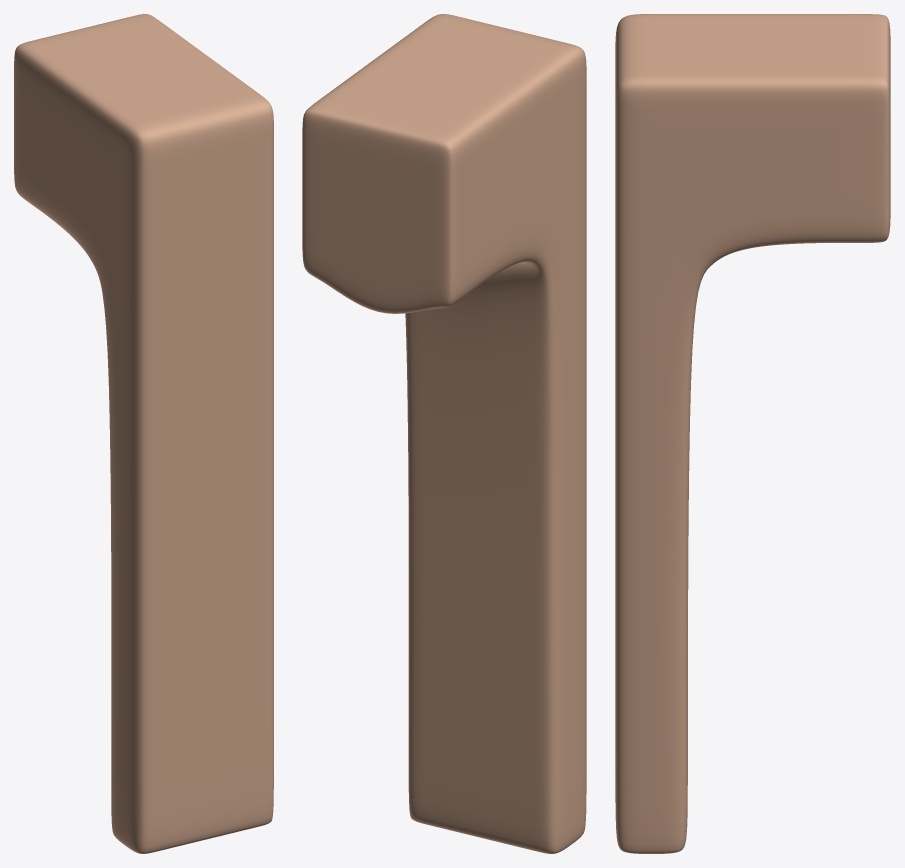
The model's file is Hoppe_Toulon.fbx.
3 views of the same model, side by side, from view 1: azimuth 30°, elevation 25°; view 2: azimuth 150°, elevation 25°; view 3: azimuth 270°, elevation 25° (orthographic). The views are drawn at different scales.
Visible parts, largest first — view 1: Hoppe_Toulon; view 2: Hoppe_Toulon; view 3: Hoppe_Toulon.
Boxes of the visible parts, x1,y1,x2,y2 form: Hoppe_Toulon: (14, 14, 273, 853); Hoppe_Toulon: (302, 14, 586, 853); Hoppe_Toulon: (615, 14, 890, 853).
Size of the model in its own units: 3.19 by 15.78 by 5.08.
